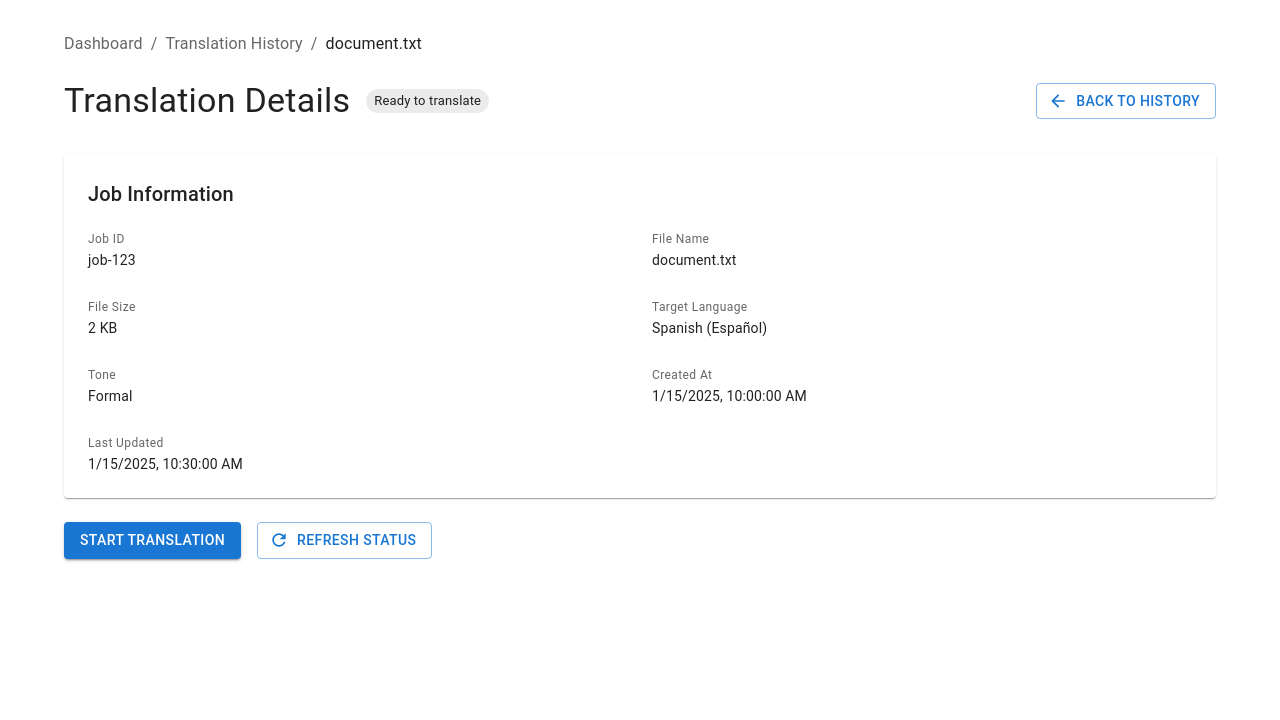
TranslationDetail › Start/Retry Translation › should show error when start translation fails
Click the button "Start Translation": (153, 540) 64,522 -> 241,558
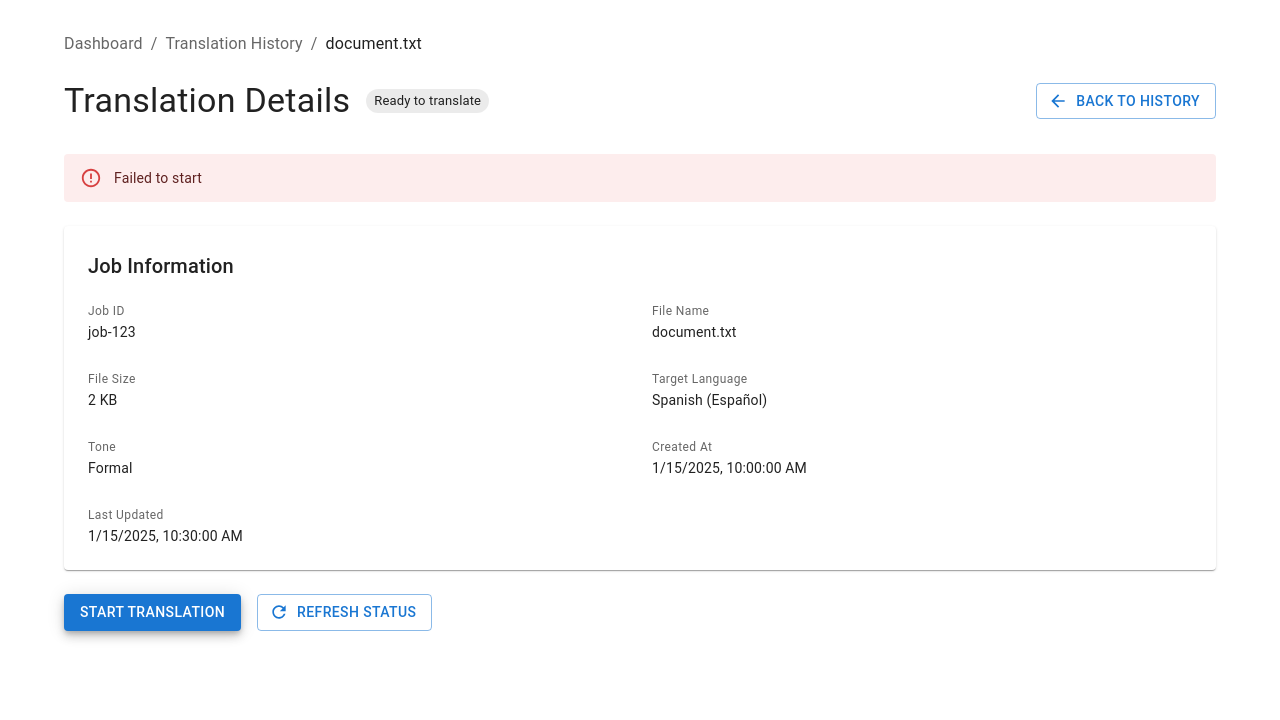
Expected: the text "Failed to start" is shown, 114,170 -> 202,186
